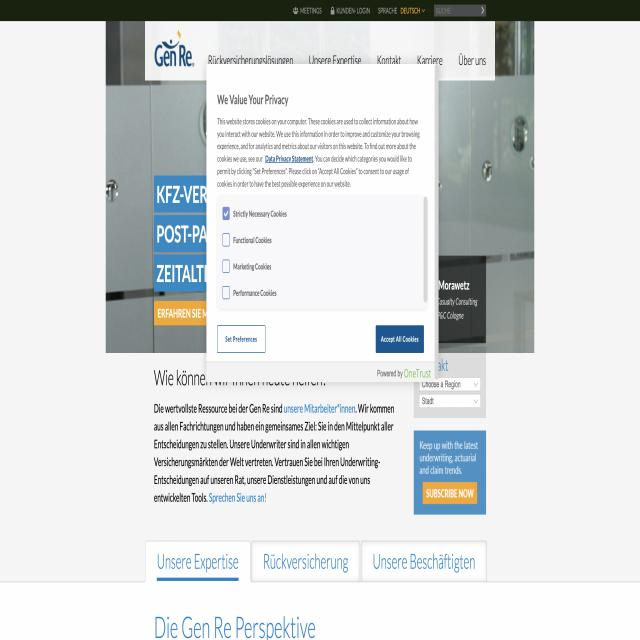Logo: (152, 24, 198, 69)
